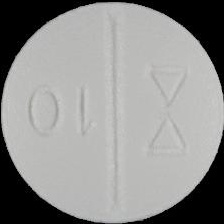0615-7721: (0, 0, 224, 224)
